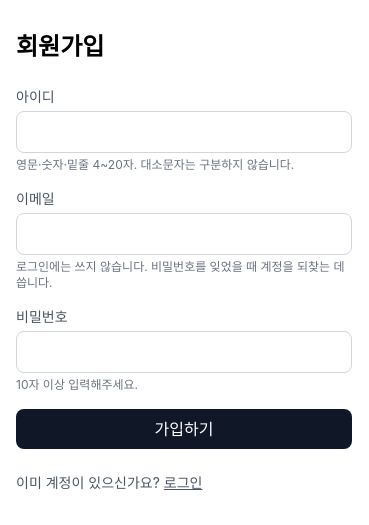
RegisterPage › 가입 실패 시 에러 메시지를 보여준다
This screenshot has width=369, height=525.
Type "testuser" into the field labelled "아이디" at (184, 132), box [16,111,352,153]
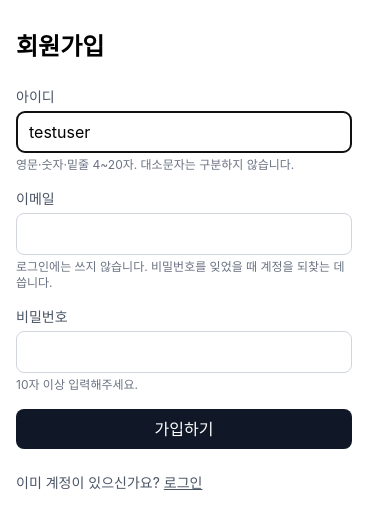
Type "user@example.com" into the field labelled "이메일" at (184, 234), box [16,213,352,255]
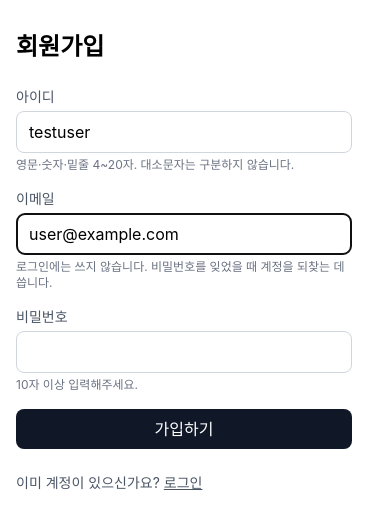
Type "충분히 긴 비밀번호" into the password field labelled "비밀번호" at (184, 352), box [16,331,352,373]
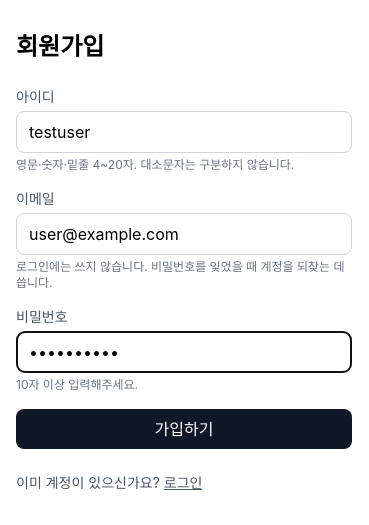
Click the button "가입하기" at (184, 429), box [16,409,352,449]
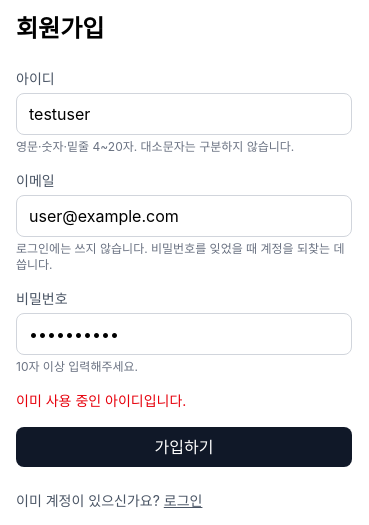
Expected: the message reads "이미 사용 중인 아이디입니다.", [16,392,186,409]
